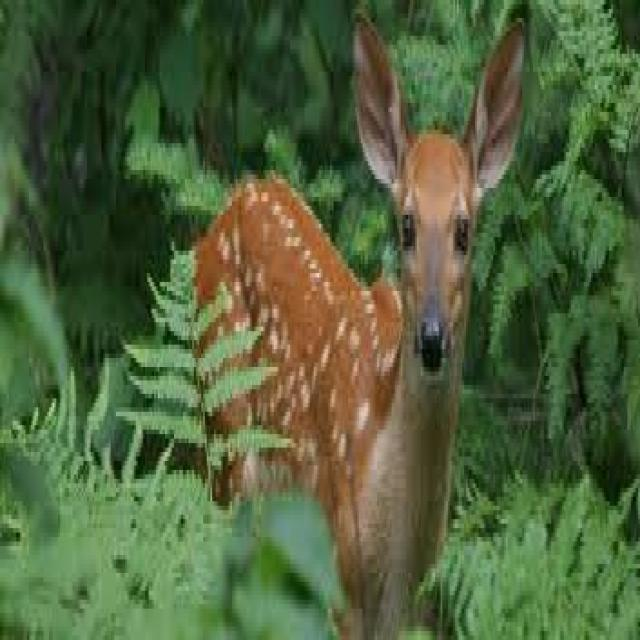Deer: (200, 10, 531, 626)
